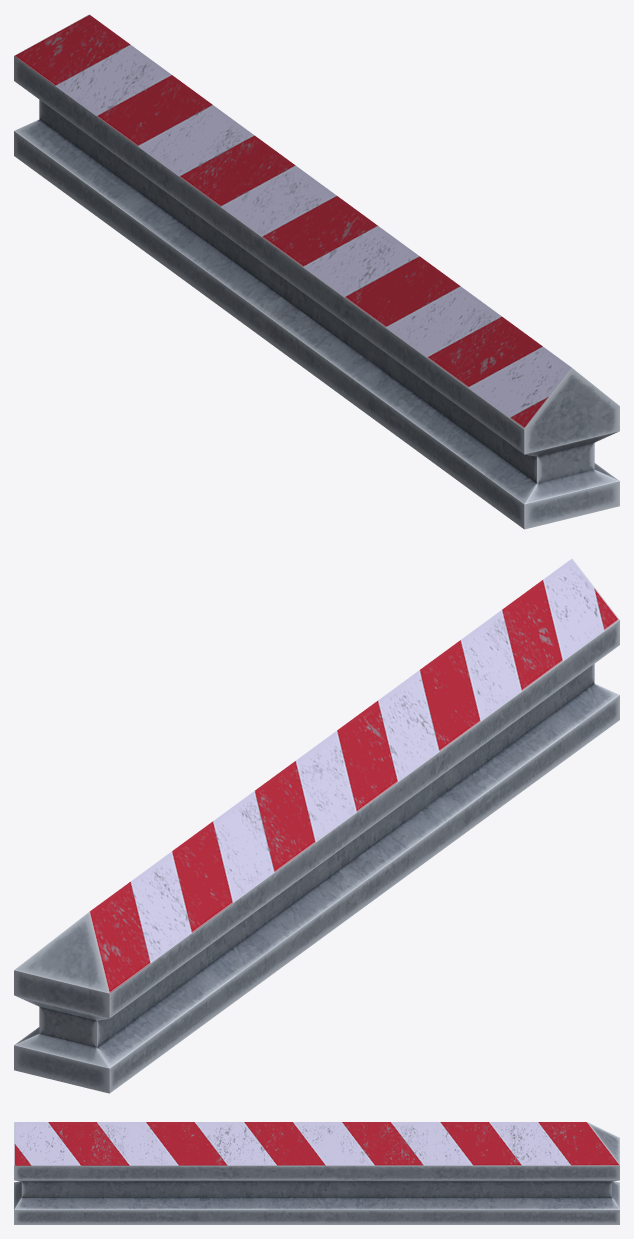
The model's file is WackerArm_B.fbx.
The picture shows the model from 3 angles, top to bottom: view 1: azimuth 30°, elevation 25°; view 2: azimuth 150°, elevation 25°; view 3: azimuth 270°, elevation 25°; orthographic projection. The views are drawn at different scales.
Parts seen in each view (by area): view 1: Wacker02; view 2: Wacker02; view 3: Wacker02.
Part boxes in pixels (<box>): Wacker02: <box>14,14,619,529</box>; Wacker02: <box>14,558,619,1093</box>; Wacker02: <box>14,1122,619,1224</box>.
Bounding box in the file's own units: 100 × 150 × 925.
